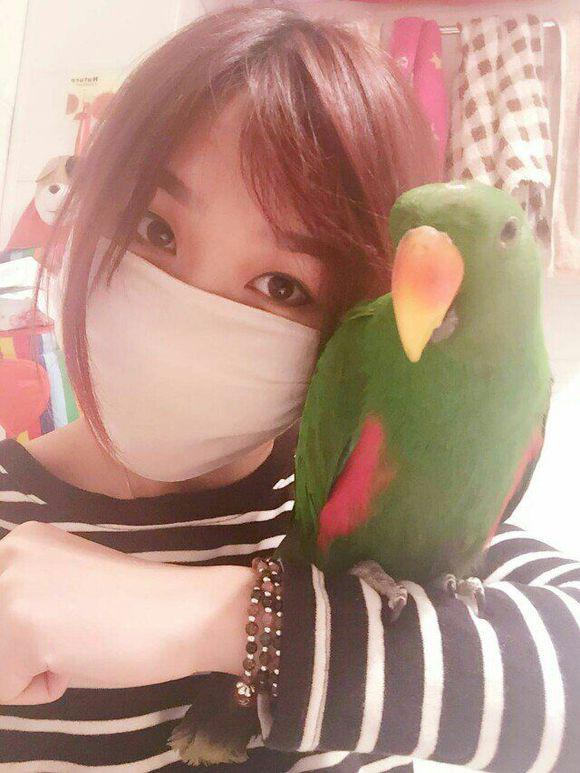OK: (62, 164, 364, 490)
